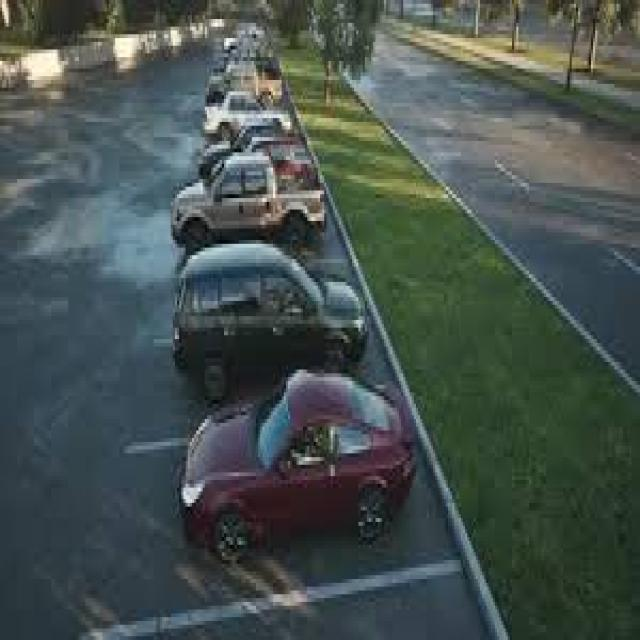ocupado: (69, 19, 484, 629)
